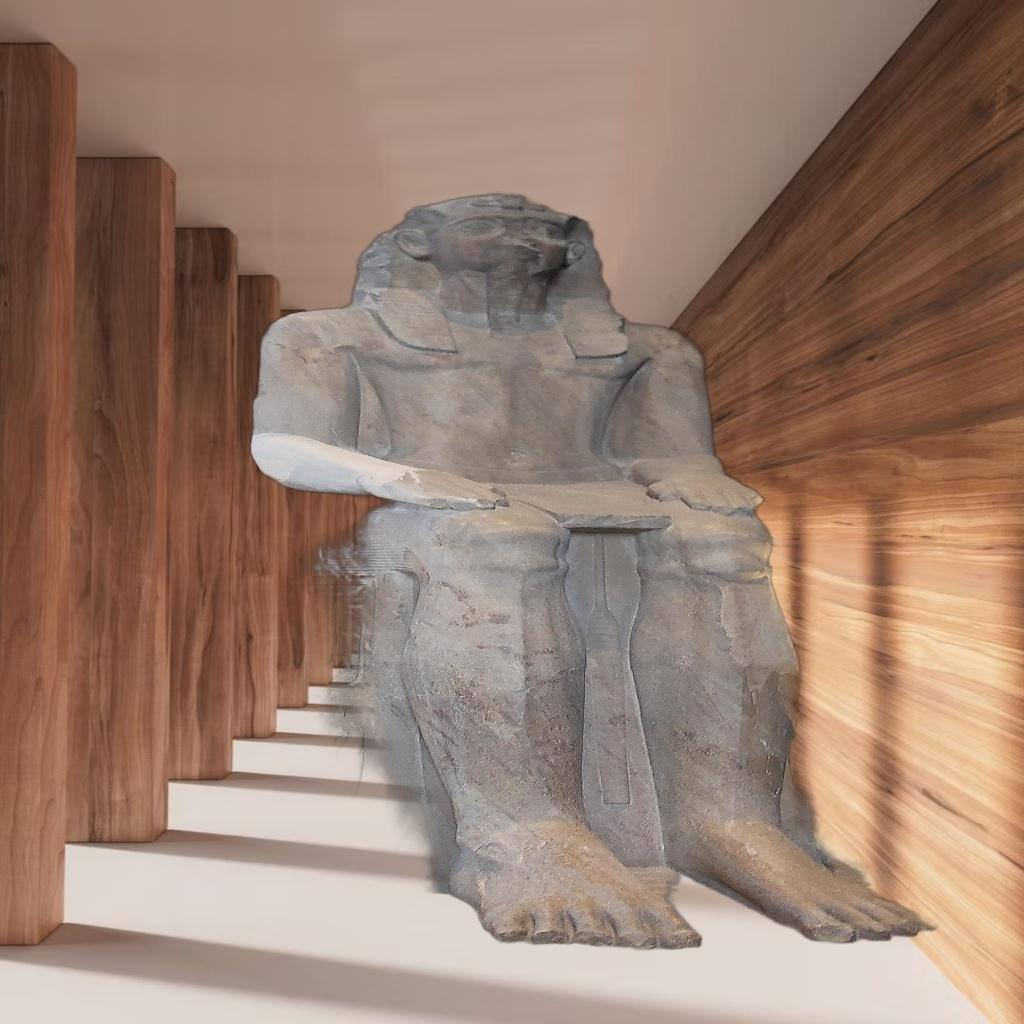Colossal Statue of Middle Kingdom King: (206, 192, 950, 954)
